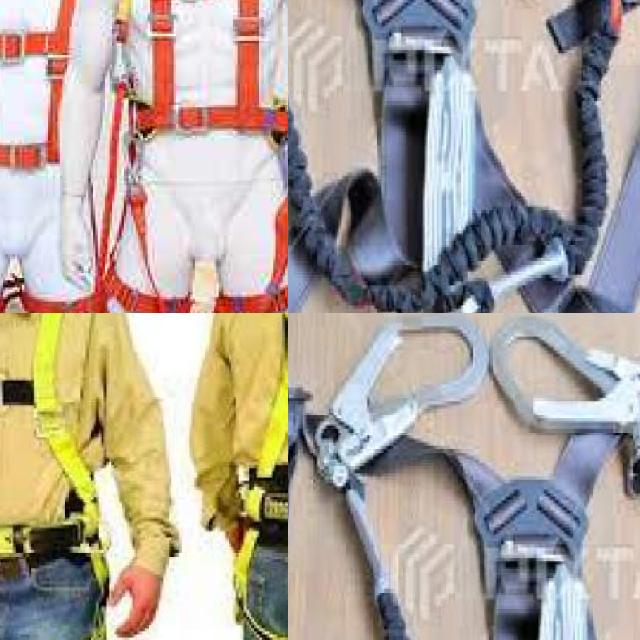Harness: (288, 313, 640, 640), (288, 0, 640, 313), (98, 0, 288, 313), (0, 313, 114, 640), (230, 313, 288, 640)
